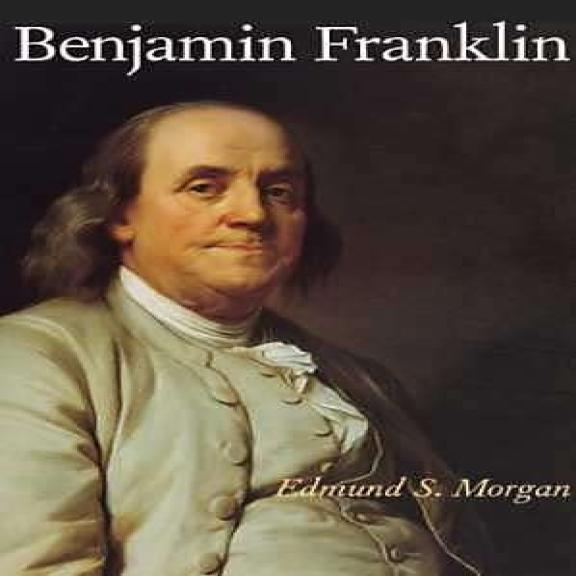face: (102, 106, 324, 312)
